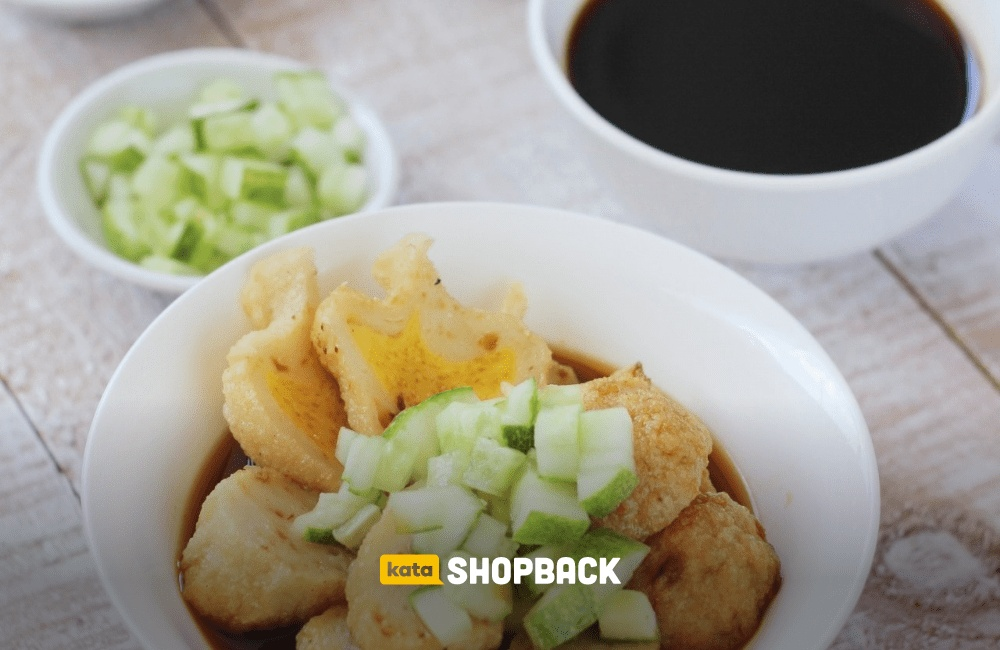pempek: (183, 239, 782, 650)
